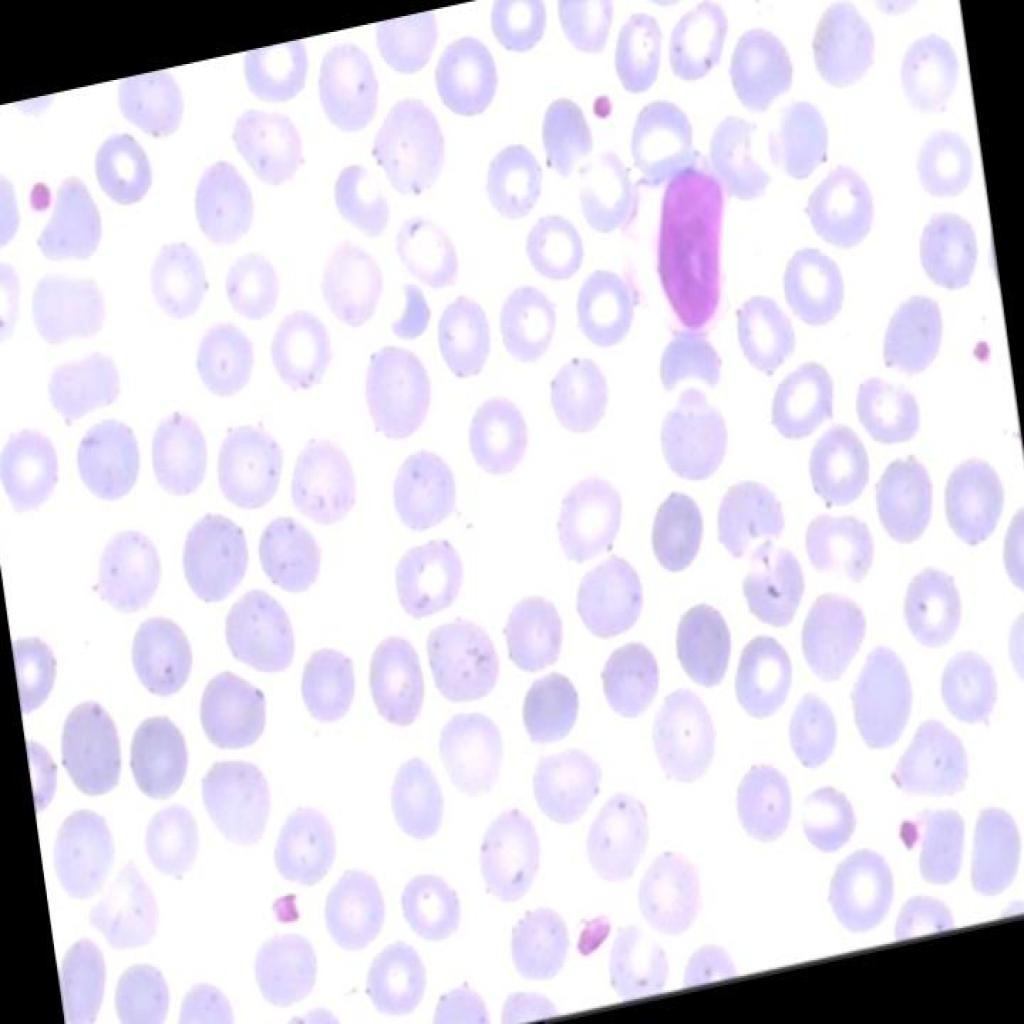Monosit: (602, 135, 758, 356)
Platelet: (256, 878, 306, 939), (579, 68, 626, 126), (957, 318, 1004, 375), (888, 809, 928, 869), (573, 905, 610, 960), (20, 167, 53, 221)
